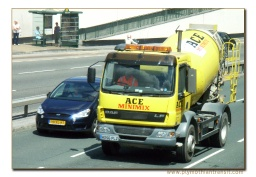car: (37, 74, 100, 137)
truck: (95, 29, 235, 159)
